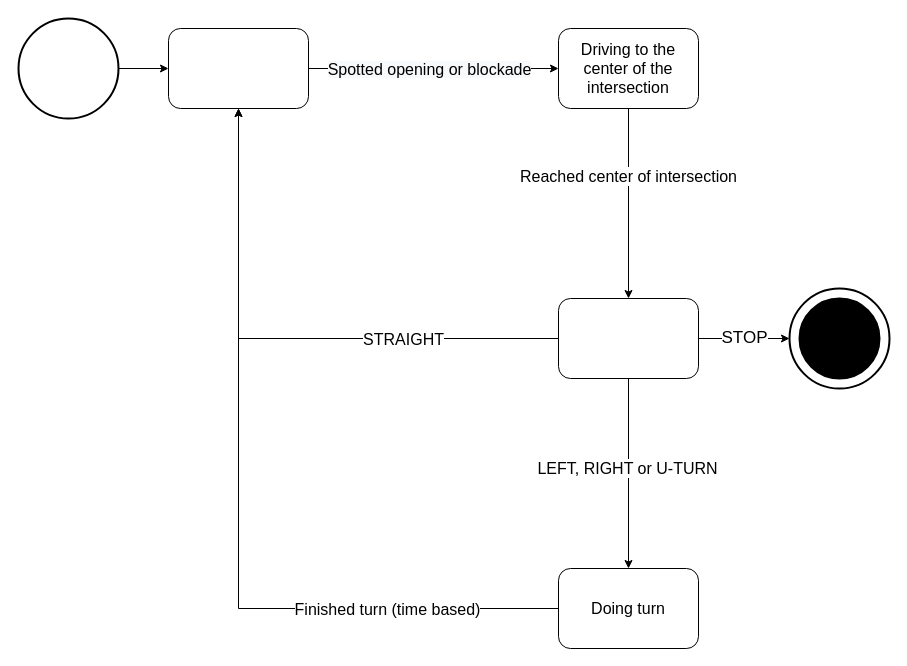
This 907x666 diagram has some shape labels left out. Each missing label, with the centre of its shape:
Asking Guide for instruction: the point at 628,338
Driving straight (with correction): the point at 238,68
